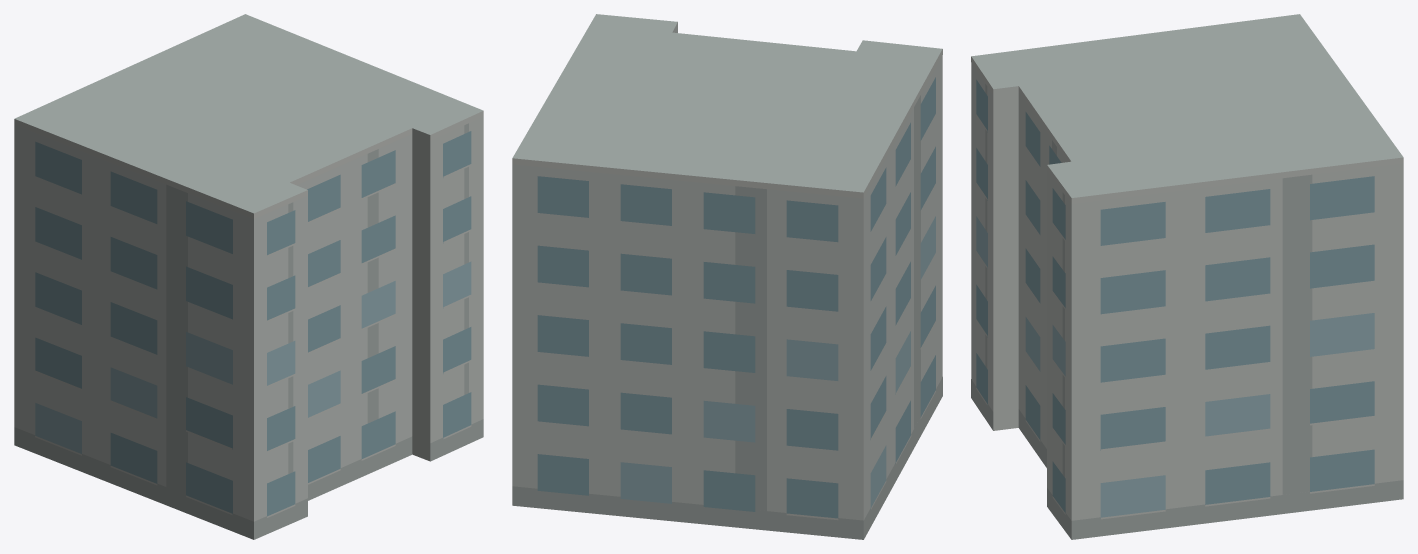
Rendered from survey-upis-32934001.glb.
3 views of the same model, side by side, from view 1: azimuth 30°, elevation 25°; view 2: azimuth 150°, elevation 25°; view 3: azimuth 270°, elevation 25° (orthographic). The views are drawn at different scales.
Visible parts, largest first — view 1: survey-upis-32934001.tmp; view 2: survey-upis-32934001.tmp; view 3: survey-upis-32934001.tmp.
Part boxes in pixels (x1,y1,x2,y2): survey-upis-32934001.tmp: (14, 14, 483, 539); survey-upis-32934001.tmp: (512, 14, 942, 539); survey-upis-32934001.tmp: (971, 14, 1403, 539).
Bounding box in the file's own units: 15.95 × 13.8 × 15.84.
